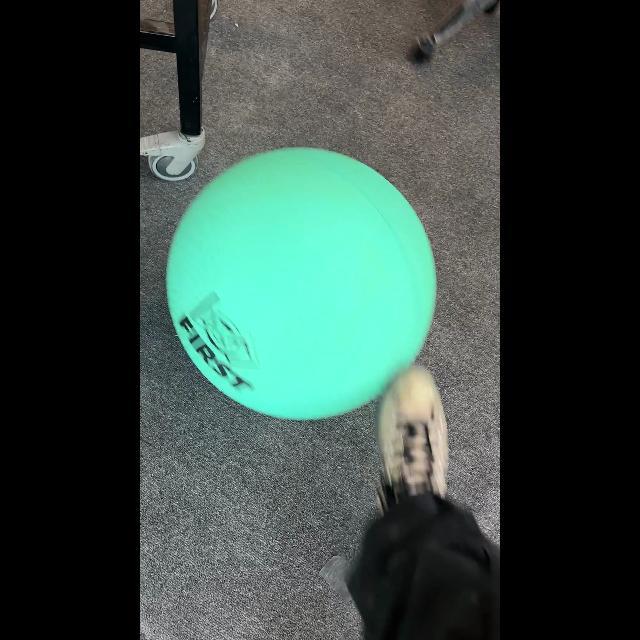ALGAE: (165, 146, 437, 422)
